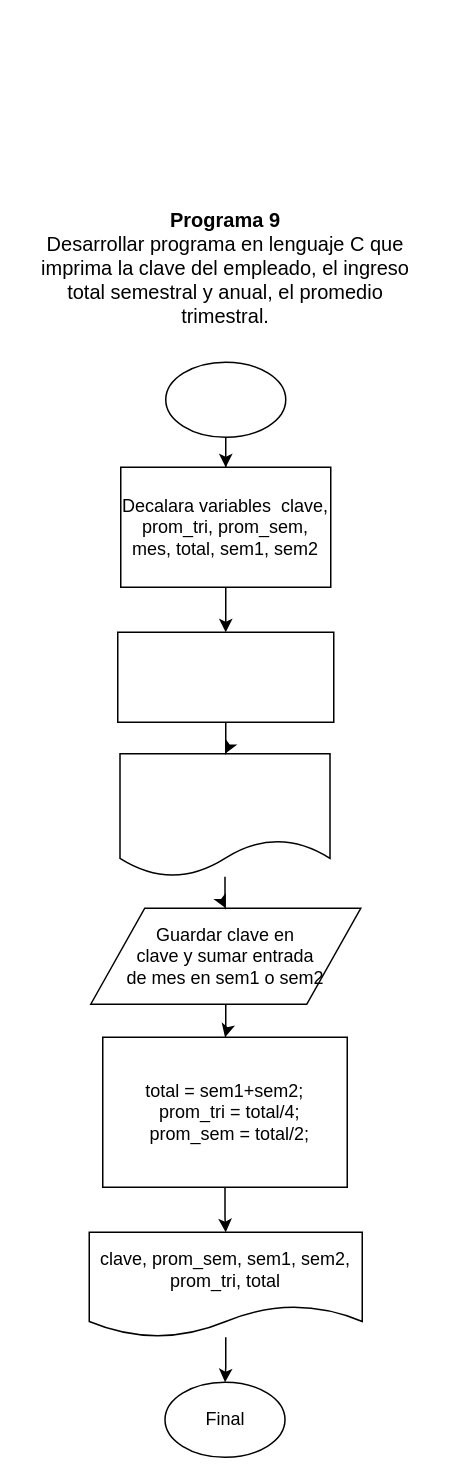
Some shapes in this 450 by 1484 pixel diagram are drawn without their labels. Each missing label, with the box of its shape:
"Ingresar la clave del empleado y el sueldo de cada mes": (118, 752, 330, 877)
Inicializar sem1=0 y sem2=0: (116, 631, 334, 722)
Inicio: (164, 361, 286, 437)
